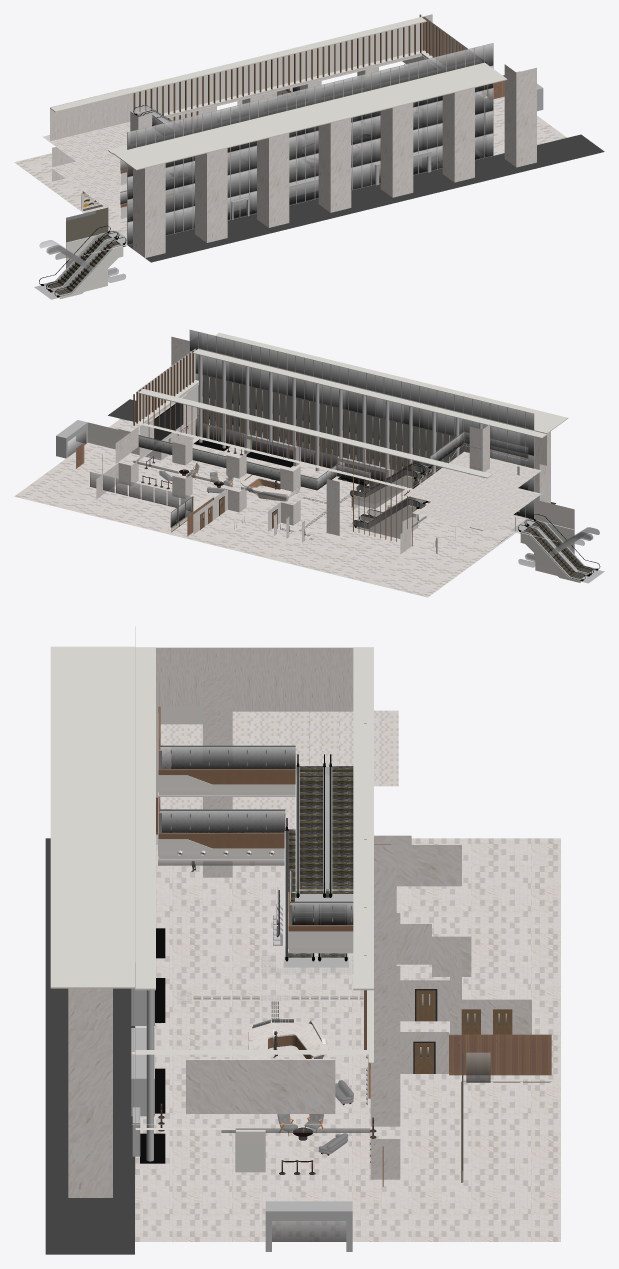
The model's file is hospital007b-webp.glb.
3 views of the same model, one above another, from view 1: azimuth 30°, elevation 25°; view 2: azimuth 150°, elevation 25°; view 3: azimuth 270°, elevation 25° (orthographic). The views are drawn at different scales.
Visible parts, largest first — view 1: floor006, Plane078_2, Plane154, floor001, Plane053, Plane078_1, Plane057, Plane146, floor021, Plane155, floor002, Plane054 (+10 smaller); view 2: Plane078_2, blinds, floor021, floor020, Cube001, Vert, floor019, floor018, floor017, floor016, Plane154, floor015 (+41 smaller); view 3: Plane154, floor001, Plane146, floor020, floor008, floor018, floor019, floor006, floor009, floor021, floor010, Tv_mount (+38 smaller).
Boxes of the visible parts, box(x1,y1,x2,y2) form: floor006: box(133, 64, 536, 257); Plane078_2: box(127, 43, 493, 244); Plane154: box(113, 62, 507, 170); floor001: box(127, 134, 604, 262); Plane053: box(130, 14, 432, 114); Plane078_1: box(127, 43, 493, 244); Plane057: box(133, 23, 421, 115); Plane146: box(50, 88, 130, 181); floor021: box(42, 122, 130, 182); Plane155: box(50, 17, 426, 112); floor002: box(51, 161, 126, 207); Plane054: box(164, 55, 407, 117); Plane078_2: box(190, 330, 533, 518); blinds: box(203, 374, 469, 477); floor021: box(405, 451, 541, 513); floor020: box(14, 491, 434, 597); Cube001: box(118, 427, 300, 525); Vert: box(199, 355, 482, 491); floor019: box(22, 486, 442, 591); floor018: box(29, 480, 449, 586); floor017: box(37, 475, 457, 580); floor016: box(44, 469, 464, 575); Plane154: box(198, 332, 568, 433); floor015: box(52, 464, 471, 570); Plane154: box(50, 646, 134, 988); floor001: box(45, 838, 134, 1254); Plane146: box(135, 647, 373, 747); floor020: box(531, 838, 560, 1241); floor008: box(172, 861, 202, 1241); floor018: box(471, 838, 501, 1241); floor019: box(501, 838, 530, 1241); floor006: box(68, 988, 112, 1197); floor009: box(202, 865, 232, 1241); floor021: box(160, 710, 398, 786); floor010: box(232, 861, 262, 1241); Tv_mount: box(186, 1059, 335, 1113).
Bounding box in the file's own units: 77 × 21.07 × 35.36.
10 materials, 6 textured.
